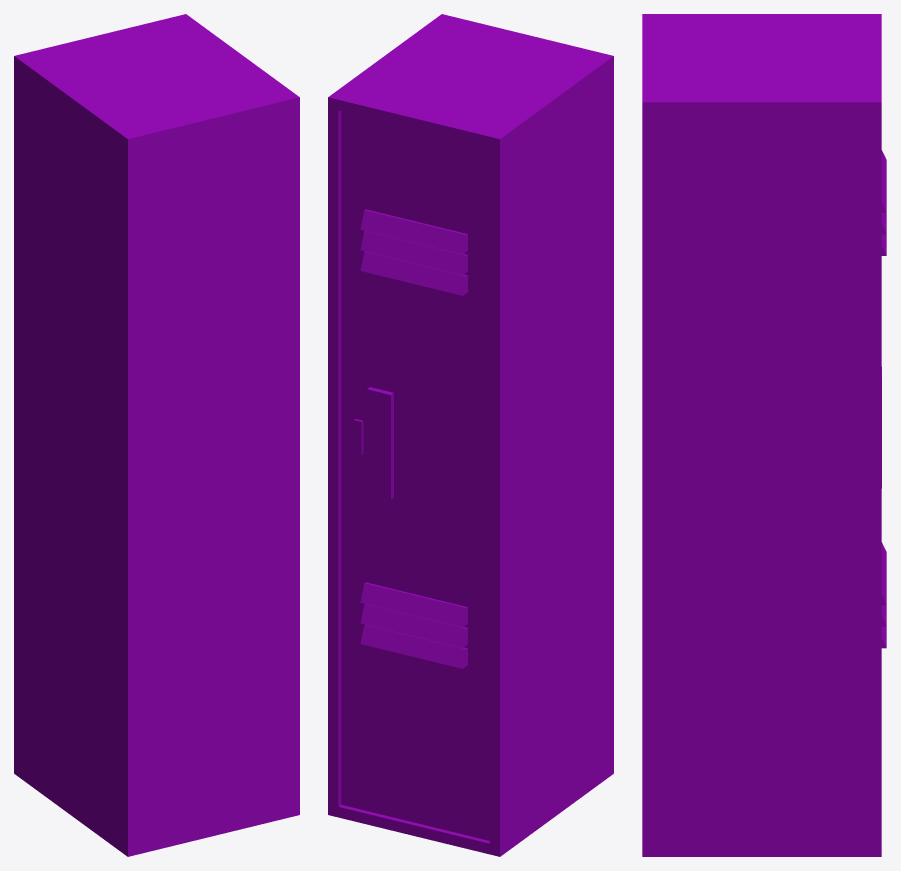
The model's file is Locker.fbx.
3 views of the same model, side by side, from view 1: azimuth 30°, elevation 25°; view 2: azimuth 150°, elevation 25°; view 3: azimuth 270°, elevation 25° (orthographic). The views are drawn at different scales.
Parts seen in each view (by area): view 1: Locker; view 2: Locker; view 3: Locker.
Boxes of the visible parts, x1,y1,x2,y2 form: Locker: (14, 14, 299, 856); Locker: (328, 14, 613, 856); Locker: (642, 14, 886, 856).
Size of the model in its own units: 0.3847 by 1.53 by 0.4506.
